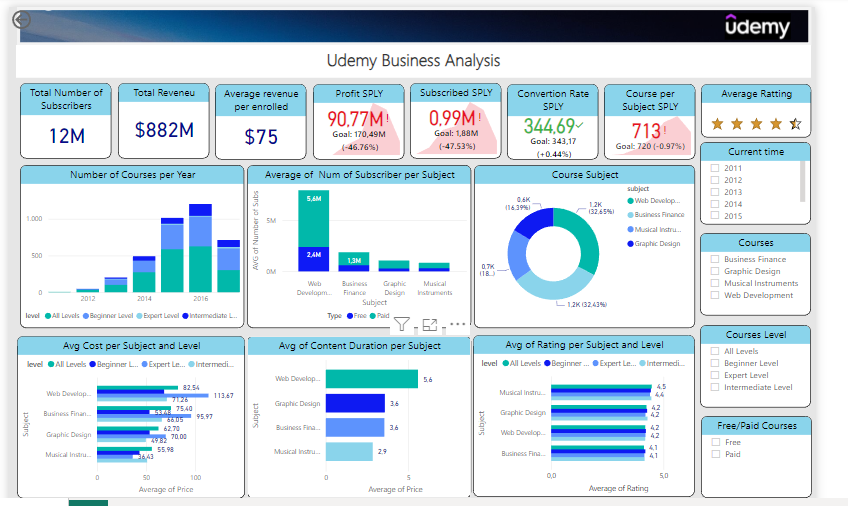

This screenshot's page, from the dashboard's own definition file:
{"tool":"powerbi","page":{"name":"Page 1","canvas":[1280,1500],"ordinal":0},"visuals":[{"type":"image","box":[13.2,0,1261.1,61.3],"z":0},{"type":"textbox","box":[11.9,60.2,1261.8,52],"z":1000},{"type":"card","title":"Total Number of Subscribers","fields":{"Values":["udemy.Total_Sub_m"]},"box":[18,121,145,120],"z":2000},{"type":"slicer","title":"Current time","fields":{"Values":["Calendar.year"]},"box":[1097.6,214.3,176.4,130.6],"z":3000},{"type":"columnChart","title":"Number of Courses per Year","fields":{"Category":["Calendar.year"],"Y":["Count(udemy.course_id)"],"Series":["udemy.level"]},"box":[17.9,251.2,355.9,259.2],"z":4000},{"type":"image","box":[1111.2,4.7,153.8,51.9],"z":5000},{"type":"card","title":"Total Reveneu","fields":{"Values":["udemy.total_price_dash"]},"box":[173,121,145,120],"z":6000},{"type":"slicer","title":"Courses","fields":{"Values":["udemy.subject.subject"]},"box":[1097.6,358.9,176.4,130.6],"z":7000},{"type":"slicer","title":"Courses Level","fields":{"Values":["udemy.level.level"]},"box":[1097.6,505.4,176.4,130.6],"z":8000},{"type":"slicer","title":"Free/Paid Courses","fields":{"Values":["udemy (2).Type"]},"box":[1098,649.9,176.4,130.2],"z":9000},{"type":"columnChart","title":"Average of  Num of Subscriber per Subject","fields":{"Category":["udemy.subject1"],"Series":["udemy.Type"],"Y":["Sum(udemy.num_subscribers)"]},"box":[377.8,251.2,355.9,259.2],"z":10000},{"type":"card","title":"Average revenue per enrolled","fields":{"Values":["udemy.Ingresos promedio por inscrito"]},"box":[327,122,145,120],"z":11000},{"type":"donutChart","title":"Course Subject","fields":{"Y":["CountNonNull(udemy.subject)"],"Category":["udemy.subject"]},"box":[738.3,251.4,351.3,258.7],"z":13000},{"type":"clusteredBarChart","title":"Avg of Content Duration per Subject","fields":{"Category":["udemy.subject"],"Y":["udemy.prom_duracion_dash"]},"box":[378,522,356,258],"z":14000},{"type":"clusteredBarChart","title":"Avg Cost per Subject and Level","fields":{"Category":["udemy.subject"],"Series":["udemy.level"],"Y":["Avg(udemy.price)"]},"box":[12.3,522.6,362.2,257.5],"z":15000},{"type":"kpi","title":"Profit SPLY","fields":{"Goal":["udemy.Profit SPLY"],"Indicator":["Sum(udemy.Total Price)"],"TrendLine":["Calendar.year"]},"box":[482,122,145,120],"z":16000},{"type":"kpi","title":"Subscribed SPLY","fields":{"TrendLine":["Calendar.year"],"Goal":["udemy.Subs SPLY"],"Indicator":["udemy.Total_Sub_m"]},"box":[636,121,145,120],"z":17000},{"type":"kpi","title":"Convertion Rate SPLY","fields":{"TrendLine":["Calendar.year"],"Goal":["udemy.Tasa Conversion SPLY"],"Indicator":["udemy.Tasa de Conversión aux"]},"box":[791,122,145,120],"z":18000},{"type":"kpi","title":"Course per Subject SPLY","fields":{"TrendLine":["Calendar.year"],"Goal":["udemy.Total Cursos SPLY"],"Indicator":["udemy.Total Cursos"]},"box":[944,122,145,120],"z":19000},{"type":"clusteredBarChart","title":"Avg of Rating per Subject and Level","fields":{"Category":["udemy.subject"],"Series":["udemy.level"],"Y":["udemy._Ratings2"]},"box":[737,521,352,257],"z":20000},{"type":"tableEx","title":"Average Ratting","fields":{"Values":["udemy.m1","udemy.m2","udemy.m3","udemy.m4","udemy.m5"]},"box":[1098,122,175,85],"z":21000},{"type":"actionButton","box":[0,0,100,40],"z":22000}]}

Visuals, with their boxes on the page's 1280x1500 design canvas (x1, y1, x2, y2). These are canvas units, not pixel positions in the 848x506 screenshot, which may show the page scaled, cropped or inside an application window:
image: [left=13, top=0, right=1274, bottom=61]
textbox: [left=12, top=60, right=1274, bottom=112]
"Total Number of Subscribers" card: [left=18, top=121, right=163, bottom=241]
"Current time" slicer: [left=1098, top=214, right=1274, bottom=345]
"Number of Courses per Year" columnChart: [left=18, top=251, right=374, bottom=510]
image: [left=1111, top=5, right=1265, bottom=57]
"Total Reveneu" card: [left=173, top=121, right=318, bottom=241]
"Courses" slicer: [left=1098, top=359, right=1274, bottom=490]
"Courses Level" slicer: [left=1098, top=505, right=1274, bottom=636]
"Free/Paid Courses" slicer: [left=1098, top=650, right=1274, bottom=780]
"Average of  Num of Subscriber per Subject" columnChart: [left=378, top=251, right=734, bottom=510]
"Average revenue per enrolled" card: [left=327, top=122, right=472, bottom=242]
"Course Subject" donutChart: [left=738, top=251, right=1090, bottom=510]
"Avg of Content Duration per Subject" clusteredBarChart: [left=378, top=522, right=734, bottom=780]
"Avg Cost per Subject and Level" clusteredBarChart: [left=12, top=523, right=374, bottom=780]
"Profit SPLY" kpi: [left=482, top=122, right=627, bottom=242]
"Subscribed SPLY" kpi: [left=636, top=121, right=781, bottom=241]
"Convertion Rate SPLY" kpi: [left=791, top=122, right=936, bottom=242]
"Course per Subject SPLY" kpi: [left=944, top=122, right=1089, bottom=242]
"Avg of Rating per Subject and Level" clusteredBarChart: [left=737, top=521, right=1089, bottom=778]
"Average Ratting" tableEx: [left=1098, top=122, right=1273, bottom=207]
actionButton: [left=0, top=0, right=100, bottom=40]
